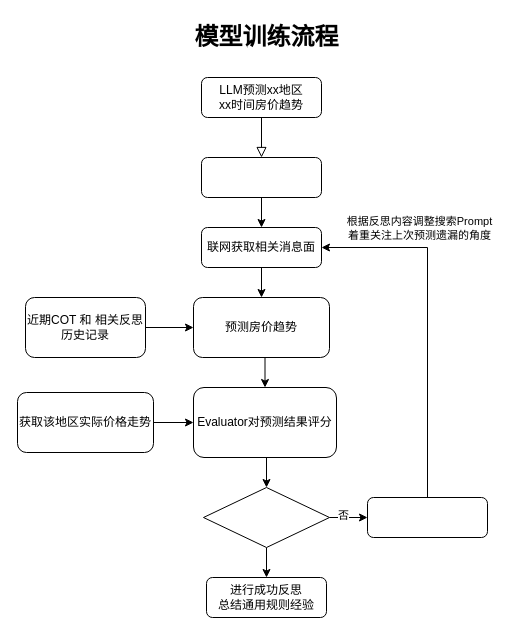
This 509x635 diagram has some shape labels left out. The centre of each missing label's shape, as x and y in pixels:
"提取 region 和 time" belongs at pixel 261 177.
"评分大于阈值" belongs at pixel 266 517.
"进行失败反思 反思问题" belongs at pixel 427 517.
